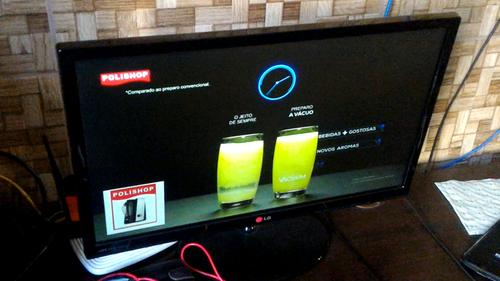Polishop #1: (102, 181, 165, 234)
